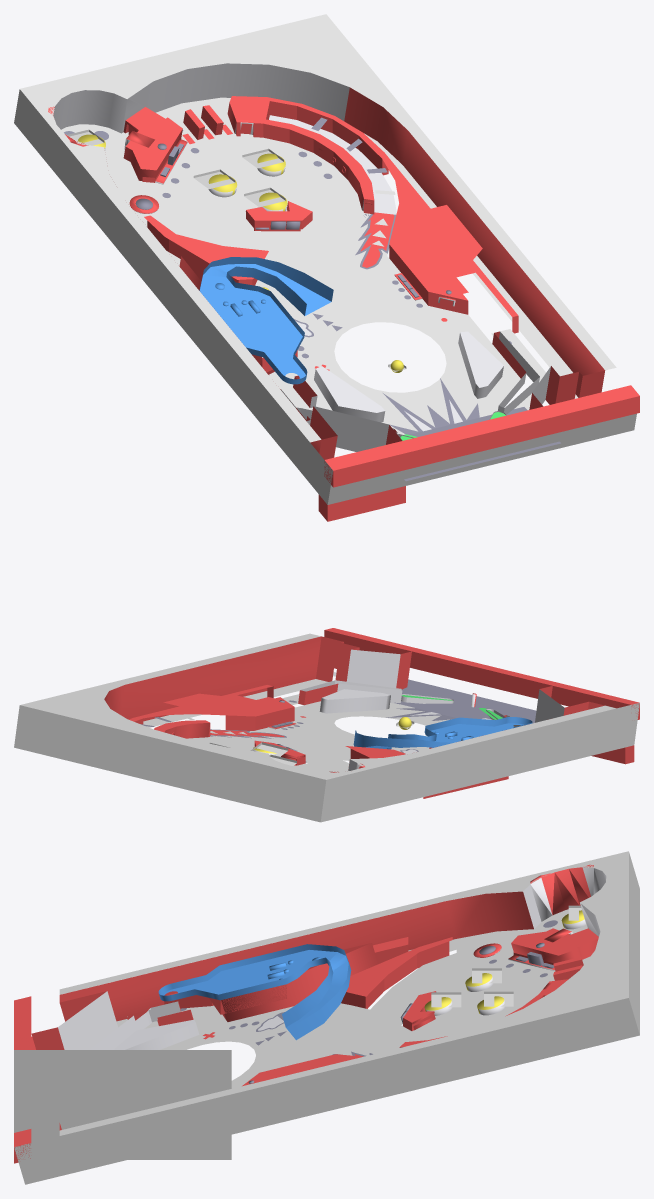
The model's file is bbbbbase.glb.
The picture shows the model from 3 angles, top to bottom: view 1: azimuth 30°, elevation 25°; view 2: azimuth 150°, elevation 25°; view 3: azimuth 270°, elevation 25°; orthographic projection. The views are drawn at different scales.
Visible parts, largest first — view 1: col_floor_playfield_blue, col_wall_frame_black, col_wall_main_outer, col_ref_floor_main, col_ramp_main, col_wall_shooter, col_floor_detail, col_wall_panel, col_ref_plunger_004, col_ref_flipper_032, col_ref_wall_002, col_wall_apron_2 (+4 smaller); view 2: col_floor_playfield_blue, col_wall_frame_black, col_wall_main_outer, col_ramp_main, col_floor_drain, col_ref_flipper_027, col_wall_apron_2, col_wall_apron_3, col_wall_panel, col_ref_plunger_003, col_floor_detail, col_ref_flipper_032 (+3 smaller); view 3: col_floor_playfield_blue, col_wall_plunger_lane, col_wall_frame_black, col_wall_left_fill, col_ramp_main, col_wall_shooter, col_wall_main_outer, col_ref_flipper_032, col_ref_floor_main, col_floor_detail, col_wall_apron_1, col_ref_plunger_004 (+5 smaller).
Boxes of the visible parts, left/top/right/bottom form: col_floor_playfield_blue: left=14, top=14, right=636, bottom=504; col_wall_frame_black: left=128, top=96, right=639, bottom=521; col_wall_main_outer: left=48, top=87, right=604, bottom=375; col_ref_floor_main: left=53, top=63, right=455, bottom=306; col_ramp_main: left=199, top=257, right=333, bottom=384; col_wall_shooter: left=123, top=105, right=447, bottom=370; col_floor_detail: left=64, top=117, right=511, bottom=434; col_wall_panel: left=125, top=120, right=469, bottom=265; col_ref_plunger_004: left=316, top=331, right=503, bottom=412; col_ref_flipper_032: left=313, top=406, right=388, bottom=451; col_ref_wall_002: left=269, top=115, right=396, bottom=214; col_wall_apron_2: left=280, top=331, right=604, bottom=459; col_floor_playfield_blue: left=14, top=633, right=639, bottom=822; col_wall_frame_black: left=129, top=628, right=639, bottom=798; col_wall_main_outer: left=104, top=636, right=476, bottom=772; col_ramp_main: left=353, top=717, right=532, bottom=749; col_floor_drain: left=394, top=679, right=536, bottom=723; col_ref_flipper_027: left=346, top=649, right=400, bottom=687; col_wall_apron_2: left=298, top=636, right=604, bottom=709; col_wall_apron_3: left=304, top=651, right=588, bottom=715; col_wall_panel: left=189, top=697, right=305, bottom=758; col_ref_plunger_003: left=326, top=696, right=387, bottom=713; col_floor_detail: left=141, top=700, right=456, bottom=762; col_ref_flipper_032: left=535, top=689, right=564, bottom=722; col_floor_playfield_blue: left=14, top=851, right=639, bottom=1184; col_wall_plunger_lane: left=14, top=1050, right=231, bottom=1159; col_wall_frame_black: left=14, top=929, right=596, bottom=1163; col_wall_left_fill: left=59, top=891, right=533, bottom=1021; col_ramp_main: left=158, top=944, right=351, bottom=1040; col_wall_shooter: left=203, top=928, right=598, bottom=1056; col_wall_main_outer: left=399, top=864, right=593, bottom=1047; col_ref_flipper_032: left=58, top=991, right=117, bottom=1049; col_ref_floor_main: left=474, top=867, right=606, bottom=971; col_floor_detail: left=180, top=920, right=557, bottom=1083; col_wall_apron_1: left=31, top=1012, right=192, bottom=1049; col_ref_plunger_004: left=114, top=1019, right=195, bottom=1049.
Bounding box in the file's own units: 28.58 × 18.48 × 51.54.
